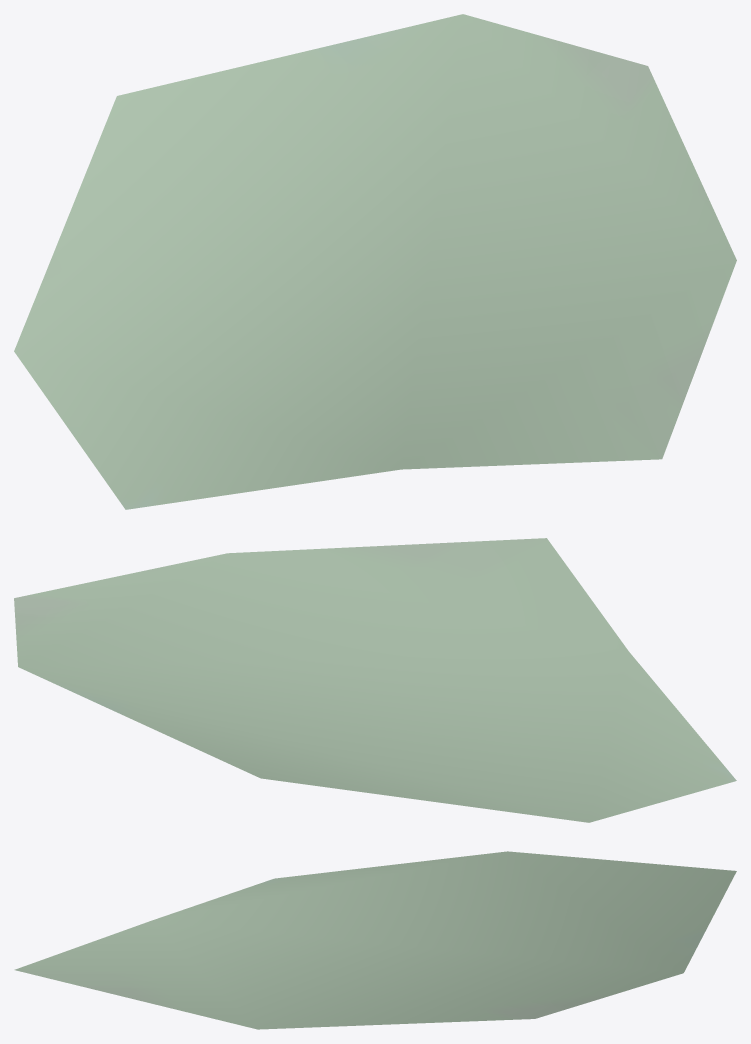
Rendered from TROLLHOLE02_HOLECAP55.fbx.
The picture shows the model from 3 angles, top to bottom: view 1: azimuth 30°, elevation 25°; view 2: azimuth 150°, elevation 25°; view 3: azimuth 270°, elevation 25°; orthographic projection. The views are drawn at different scales.
Parts seen in each view (by area): view 1: TROLLHOLE02_HOLECAP55; view 2: TROLLHOLE02_HOLECAP55; view 3: TROLLHOLE02_HOLECAP55.
Part boxes in pixels (x1,y1,x2,y2): TROLLHOLE02_HOLECAP55: (14, 14, 736, 509); TROLLHOLE02_HOLECAP55: (14, 538, 736, 822); TROLLHOLE02_HOLECAP55: (14, 851, 736, 1029).
Size of the model in its own units: 17516 by 4205 by 19552.
Materials: 1 (1 with a texture image).
